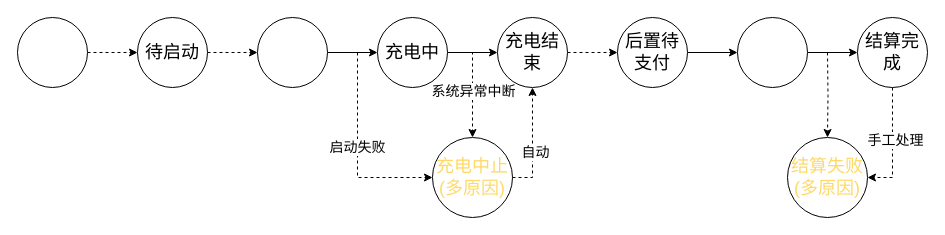
The diagram is 945 pixels wide and 235 high, and some of its shapes have lost their labels. Each missing label, with the centre of its shape:
"前置已支付" goes at point (52, 52).
"启动中" goes at point (292, 52).
"结算中" goes at point (772, 52).
